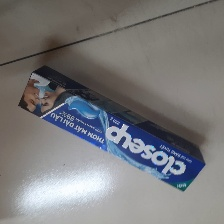CloseUp Tuyet: (16, 65, 206, 191)
